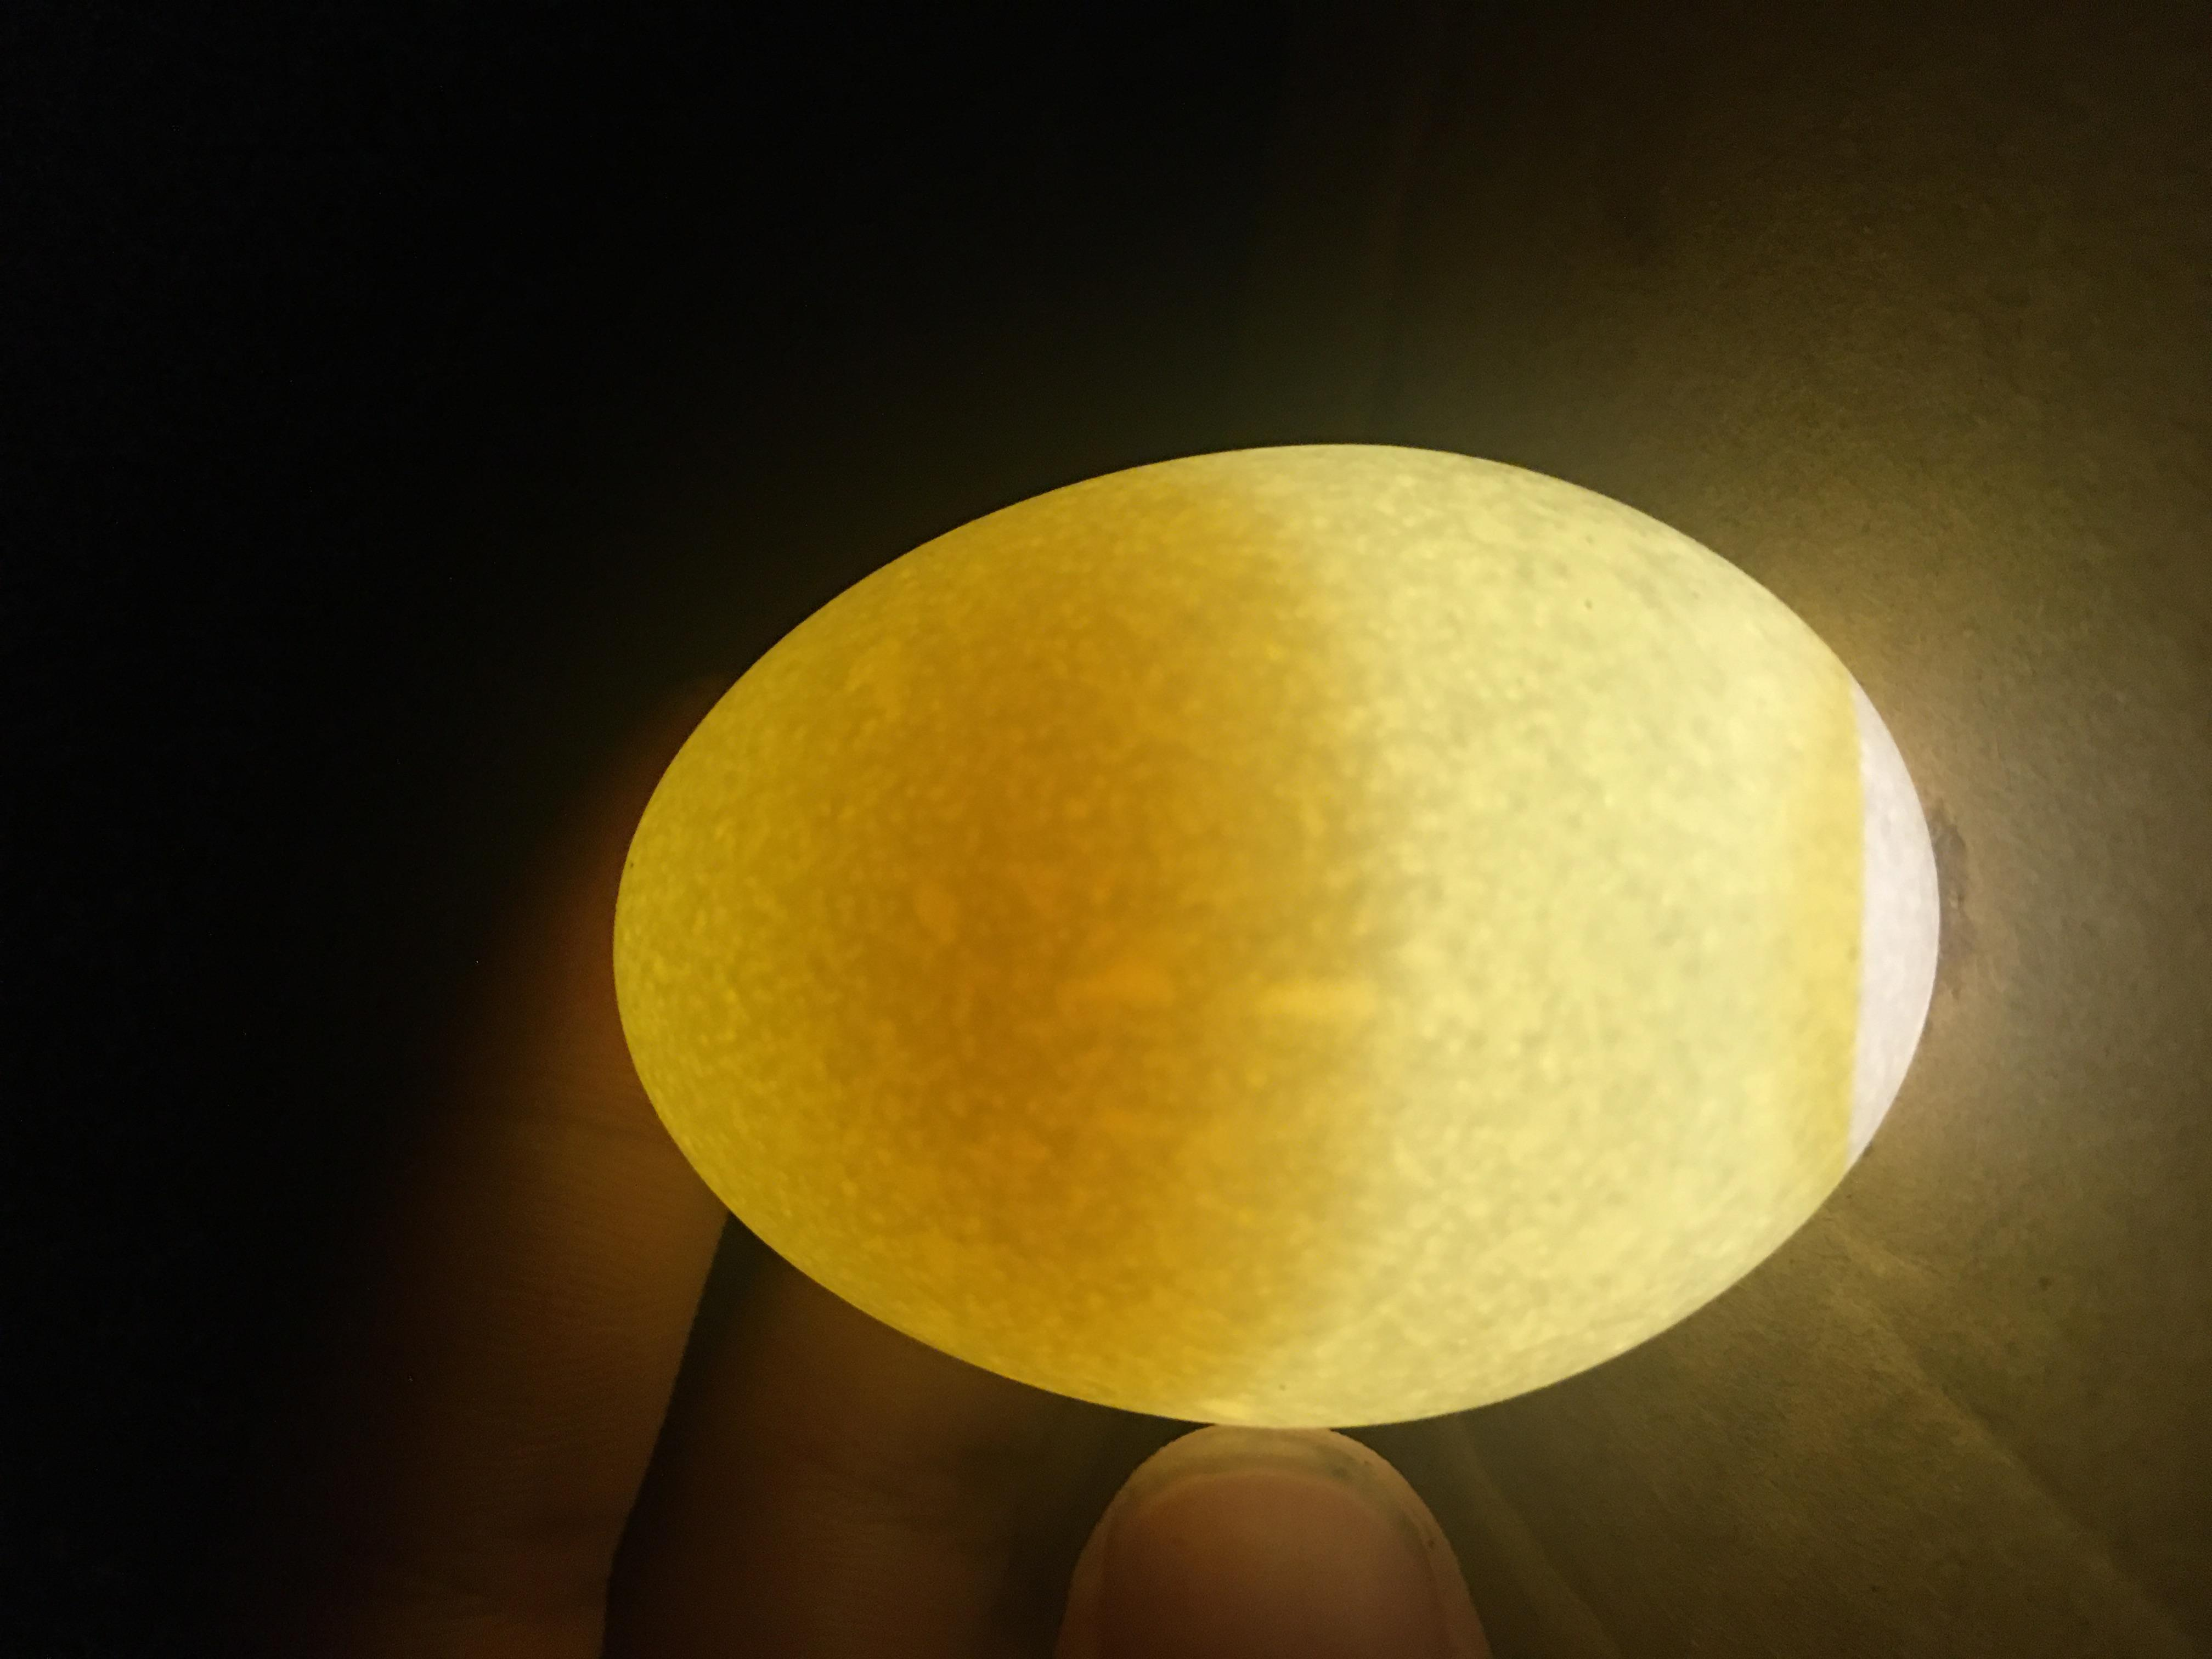A - Good: (279, 441, 1663, 1490)
